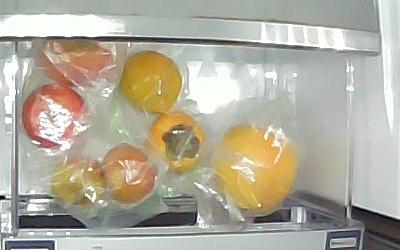apple_vinyl: (23, 83, 87, 149), (40, 39, 113, 88)
grapefruit_vinyl: (211, 123, 297, 218)
persimmon_vinyl: (120, 50, 182, 115), (147, 113, 205, 176)
prune_vinyl: (102, 143, 155, 203), (51, 158, 105, 208)
